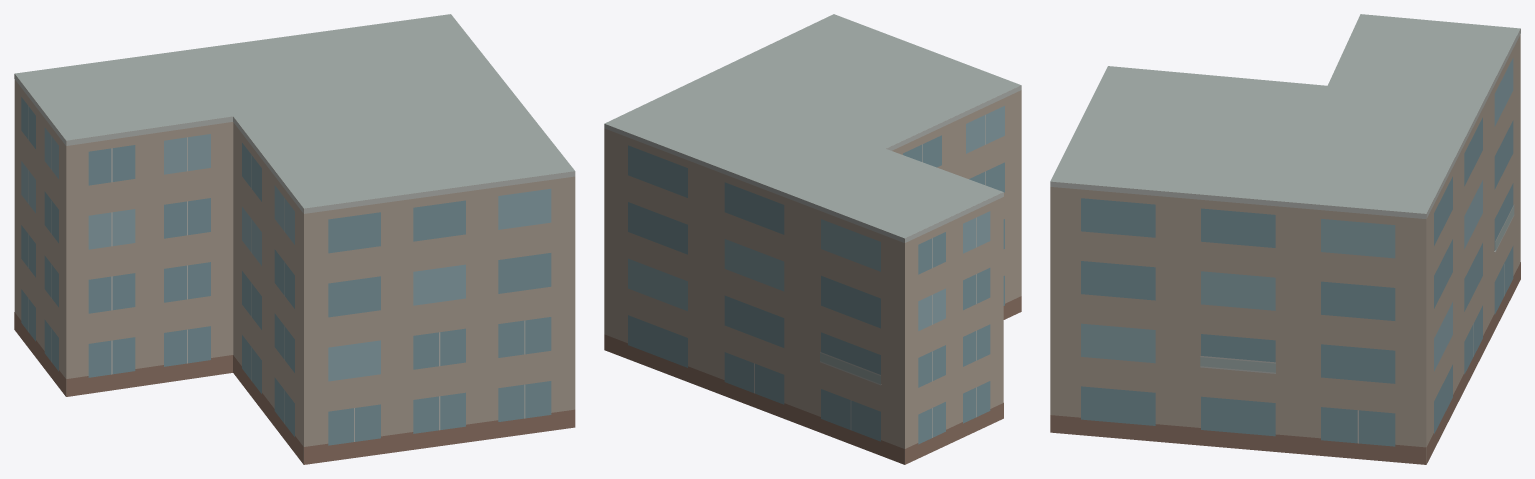
File: survey-upis-32482268.glb
3 renders of one model, left to right at view 1: azimuth 30°, elevation 25°; view 2: azimuth 150°, elevation 25°; view 3: azimuth 270°, elevation 25°, orthographic. The views are drawn at different scales.
Visible parts, largest first — view 1: survey-upis-32482268.tmp; view 2: survey-upis-32482268.tmp; view 3: survey-upis-32482268.tmp.
Part boxes in pixels (x1=…): survey-upis-32482268.tmp: x1=14, y1=14, x2=575, y2=464; survey-upis-32482268.tmp: x1=604, y1=14, x2=1021, y2=464; survey-upis-32482268.tmp: x1=1050, y1=14, x2=1520, y2=464.
Size of the model in its own units: 20 by 11.7 by 19.89.
